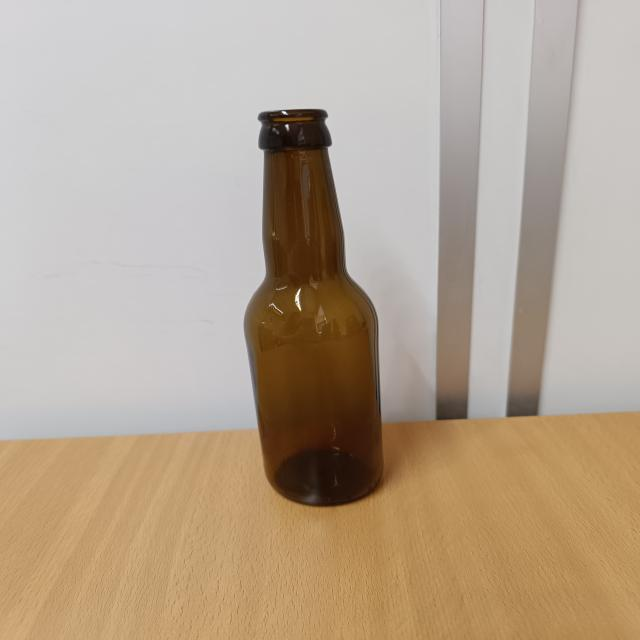Bottle: (239, 107, 391, 505)
